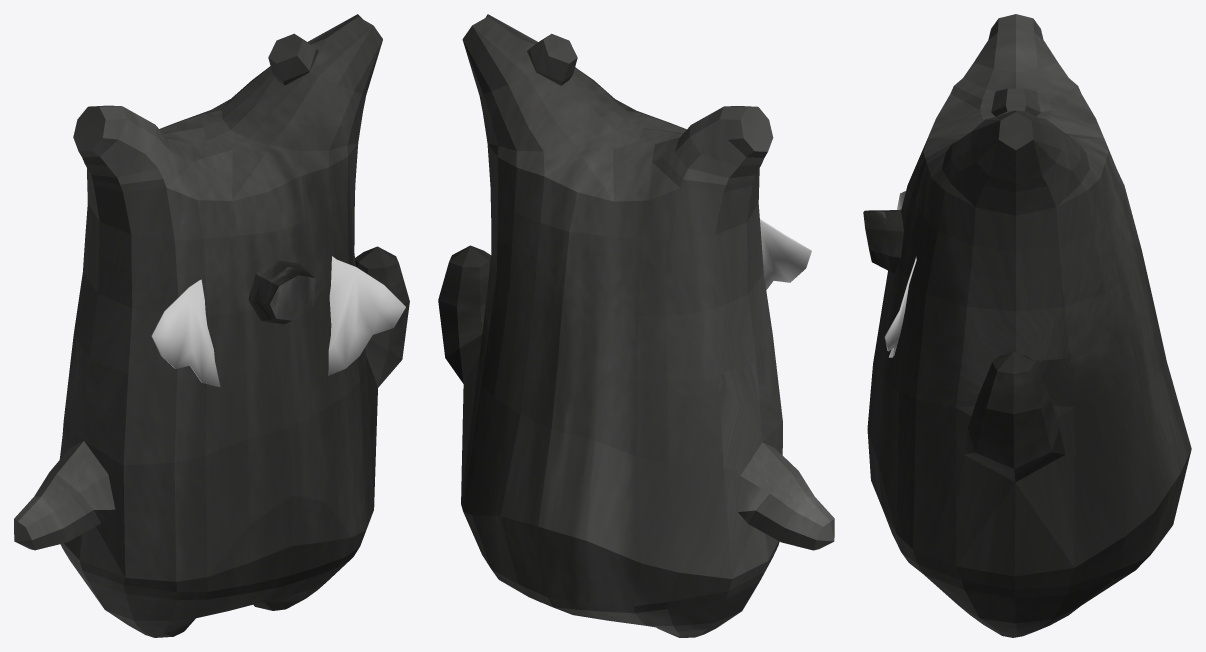
File: frame_0079.obj
3 renders of one model, left to right at view 1: azimuth 30°, elevation 25°; view 2: azimuth 150°, elevation 25°; view 3: azimuth 270°, elevation 25°, orthographic.
Visible parts, largest first — view 1: korok, leaf, nose; view 2: korok, leaf; view 3: korok, nose, leaf.
Part boxes in pixels (x1,y1,x2,y2): korok: (14, 14, 409, 637); leaf: (151, 256, 405, 387); nose: (248, 260, 319, 324); korok: (438, 14, 834, 637); leaf: (760, 219, 811, 289); korok: (867, 14, 1191, 637); nose: (863, 209, 903, 273); leaf: (884, 191, 916, 357).
Bounding box in the file's own units: 1.61 × 2.24 × 1.18.
